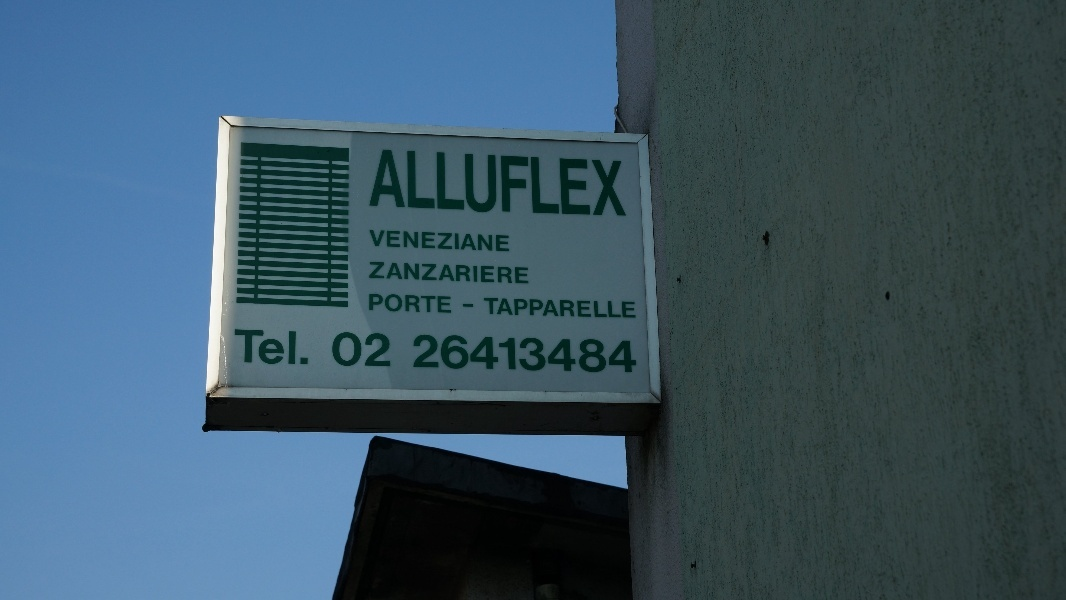text: (385, 148, 400, 219), (401, 148, 416, 219), (417, 148, 432, 219), (433, 148, 448, 219), (449, 148, 464, 219), (465, 148, 480, 219), (481, 148, 496, 219), (497, 148, 512, 219), (513, 148, 528, 219), (529, 148, 544, 219), (545, 148, 560, 219), (561, 148, 576, 219), (577, 148, 592, 219), (593, 148, 608, 219), (609, 148, 624, 219), (417, 335, 432, 373), (433, 335, 448, 373), (449, 335, 464, 373), (465, 335, 480, 373), (481, 335, 496, 373), (497, 335, 512, 373), (513, 335, 528, 373), (529, 335, 544, 373), (545, 335, 560, 373), (561, 335, 576, 373), (577, 335, 592, 373), (593, 335, 608, 373), (609, 335, 624, 373), (337, 332, 352, 367), (353, 332, 368, 367), (369, 332, 384, 367), (241, 330, 256, 365), (257, 330, 272, 365), (273, 330, 288, 365), (289, 330, 304, 365), (625, 335, 636, 373), (385, 230, 400, 252), (401, 230, 416, 252), (417, 230, 432, 252), (433, 230, 448, 252), (449, 230, 464, 252), (465, 230, 480, 252), (481, 230, 496, 252), (385, 262, 400, 283), (401, 262, 416, 283), (417, 262, 432, 283), (433, 262, 448, 283), (449, 262, 464, 283), (465, 262, 480, 283), (481, 262, 496, 283), (497, 262, 512, 283), (513, 262, 528, 283), (370, 230, 384, 252), (497, 298, 512, 318), (513, 298, 528, 318), (529, 298, 544, 318), (545, 298, 560, 318), (561, 298, 576, 318), (577, 298, 592, 318), (593, 298, 608, 318), (609, 298, 624, 318), (370, 262, 384, 283), (497, 230, 510, 252), (369, 294, 384, 313), (385, 294, 400, 313), (401, 294, 416, 313), (417, 294, 432, 313), (433, 294, 448, 313), (233, 330, 240, 365), (484, 298, 496, 318), (385, 332, 391, 367), (625, 298, 635, 318), (625, 148, 627, 219), (305, 330, 308, 365), (383, 148, 384, 219), (449, 294, 452, 313), (415, 335, 416, 373), (335, 332, 336, 367), (465, 304, 473, 307), (463, 304, 464, 307)
